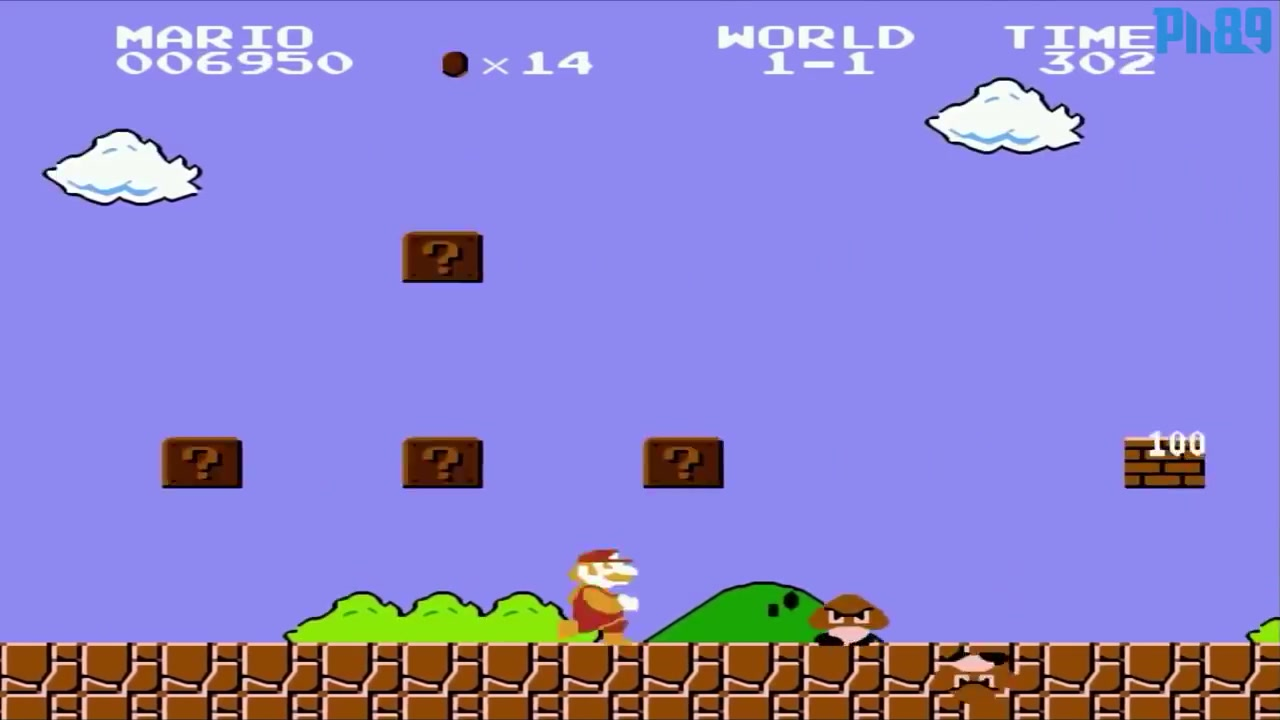mario: (548, 527, 645, 643)
